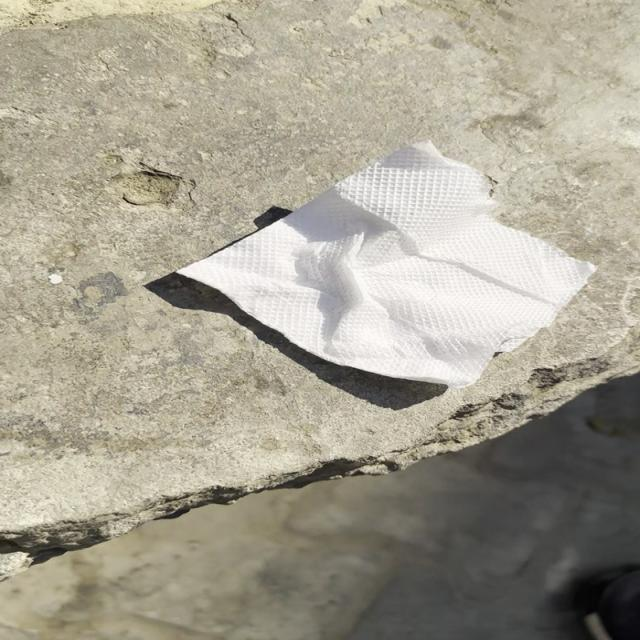tissue: (174, 134, 599, 396)
